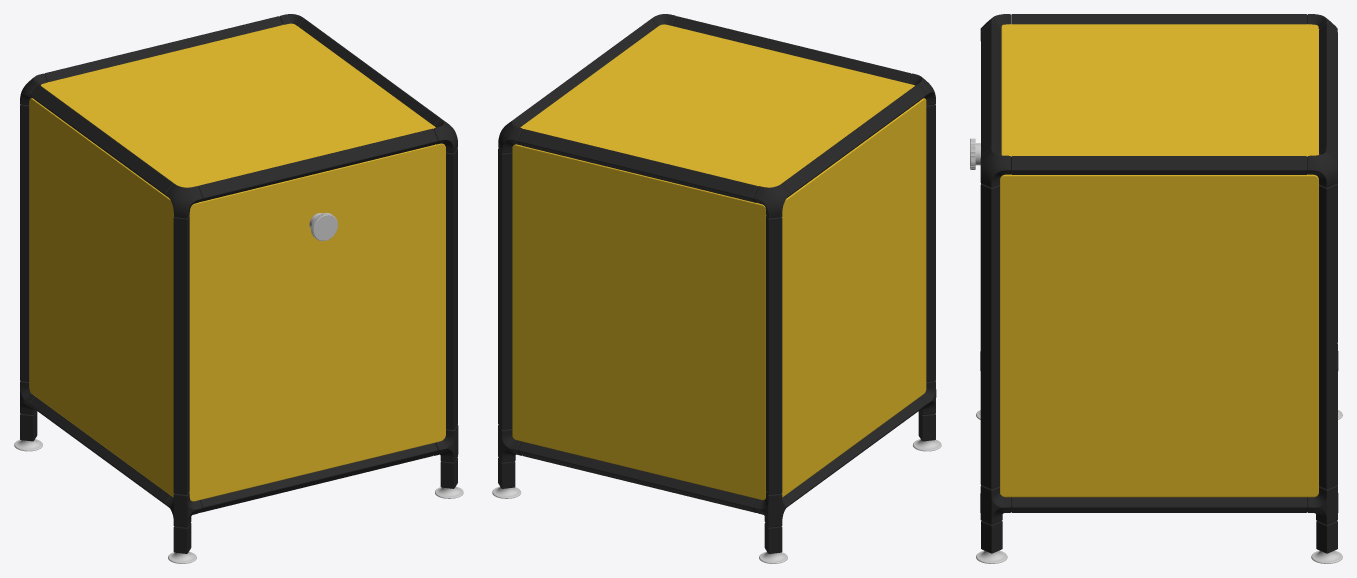
3 views of the same model, side by side, from view 1: azimuth 30°, elevation 25°; view 2: azimuth 150°, elevation 25°; view 3: azimuth 270°, elevation 25° (orthographic). The views are drawn at different scales.
Visible parts, largest first — view 1: 374x374x420; view 2: 374x374x420; view 3: 374x374x420.
Boxes of the visible parts, x1,y1,x2,y2 form: 374x374x420: (14,14,463,563); 374x374x420: (492,14,941,563); 374x374x420: (970,14,1342,563).
Size of the model in its own units: 0.4639 by 0.5593 by 0.4707.
